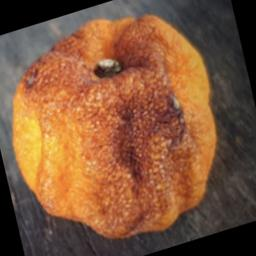Orange Rotten: (3, 0, 239, 256)
